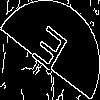E: (25, 25, 70, 81)
